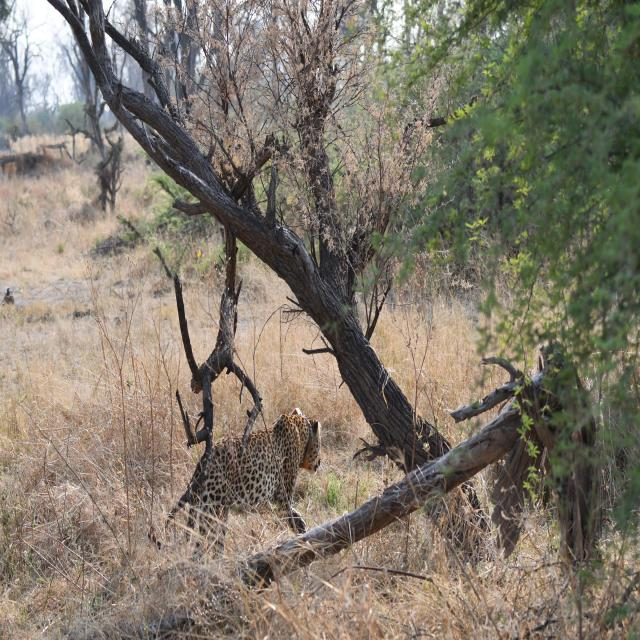Leopard: (152, 402, 317, 556)
